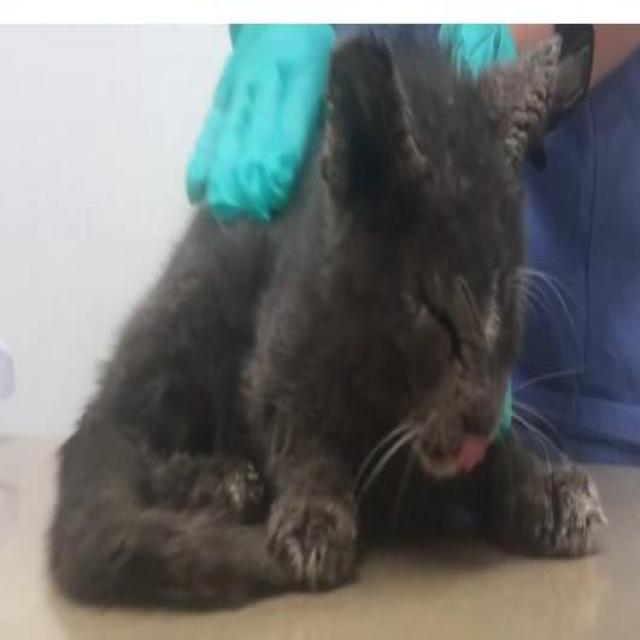ghe: (532, 473, 604, 555), (504, 61, 540, 195)
